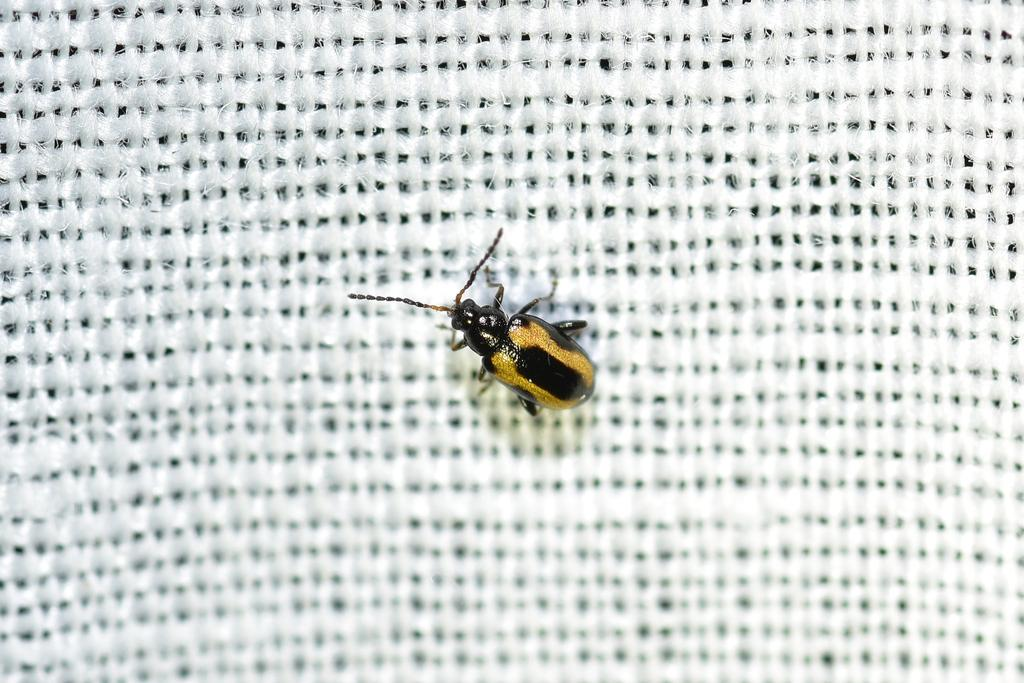flea_beetle: (335, 201, 657, 483)
